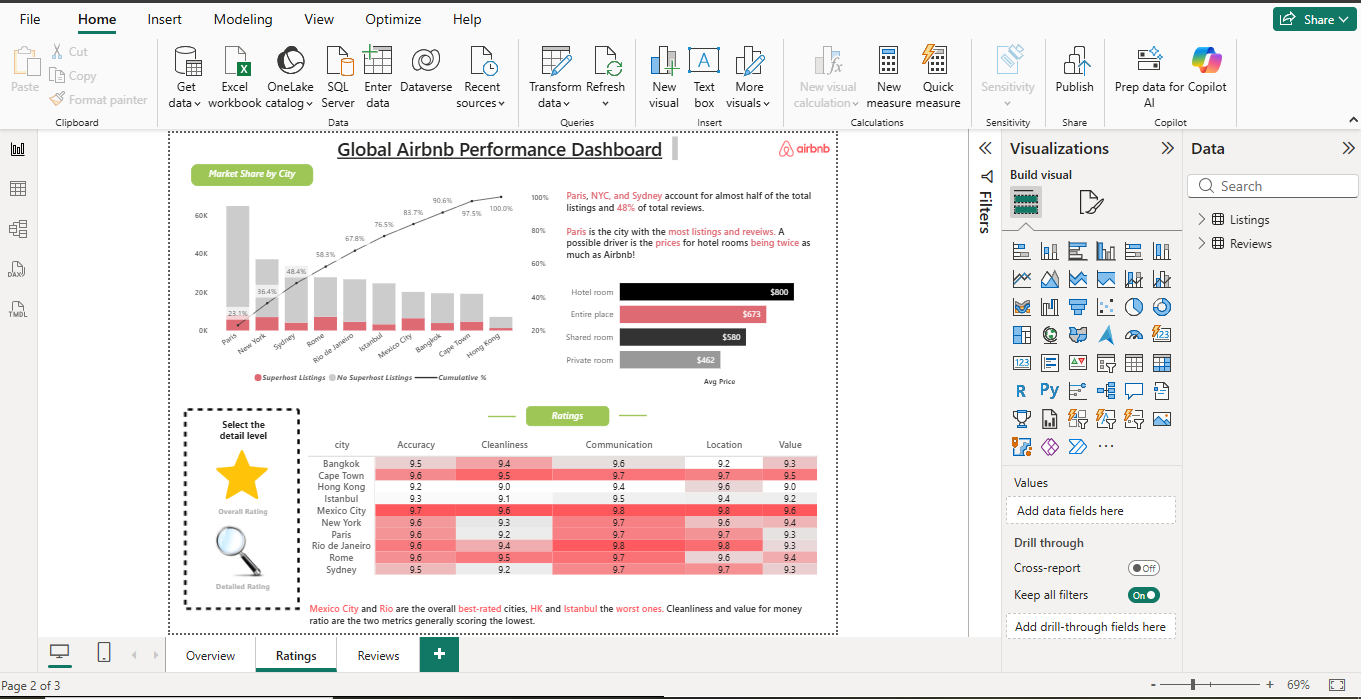

Layout of this report page (visuals, bound fields, positions):
{"tool":"powerbi","page":{"name":"Ratings","canvas":[960,720],"ordinal":1},"visuals":[{"type":"textbox","box":[223.7,0,512.6,44.6],"z":0},{"type":"image","box":[877,0,73.4,44.6],"z":1000},{"type":"textbox","box":[30.2,44.6,175.7,31.7],"z":2000},{"type":"textbox","box":[565.9,76.3,367.2,123.8],"z":3000},{"type":"lineStackedColumnComboChart","fields":{"Category":["Listings.city"],"Y":["Listings.Superhost Listings","Listings.No Superhost Listings"],"Y2":["Listings.Cumulative %"]},"box":[30.2,76.3,521.3,293.8],"z":4000},{"type":"barChart","fields":{"Category":["Listings.room_type"],"Y":["Listings.Avg Price"]},"box":[558.7,190.1,381.6,180],"z":5000},{"type":"image","box":[55.6,446.5,95,90.7],"z":5007,"group":"g1"},{"type":"shape","box":[57,531.5,95,25.9],"z":5012,"group":"g1"},{"type":"textbox","box":[512.6,393.1,119.5,28.8],"z":6000},{"type":"shape","box":[457.9,371.5,40.3,73.4],"z":7000},{"type":"shape","box":[646.6,370.1,40.3,73.4],"z":8000},{"type":"image","box":[0,364.3,210.2,355.7],"z":9000},{"type":"shape","box":[60.5,403.2,90.7,47.5],"z":10000},{"type":"image","box":[56.1,564.5,95,76.3],"z":11000,"group":"g2"},{"type":"pivotTable","fields":{"Rows":["Listings.city"],"Values":["Listings.Accuracy","Listings.Cleanliness","Listings.Communication","Listings.Location","Listings.Value"]},"box":[194.4,434.9,756,234.7],"z":12000},{"type":"group","id":"g1","title":"Group 1","box":[55.6,446.5,96.5,110.9],"z":13000},{"type":"group","id":"g2","title":"Group 2","box":[51.8,564.5,106.6,99.4],"z":14000},{"type":"shape","box":[51.8,640.8,106.6,23],"z":14000,"group":"g2"},{"type":"textbox","box":[195.8,671,735.8,49],"z":15000}]}

Visuals, with their boxes on the page's 960x720 design canvas (x1, y1, x2, y2). These are canvas units, not pixel positions in the 1361x699 screenshot, which may show the page scaled, cropped or inside an application window:
textbox: select_region(224, 0, 736, 45)
image: select_region(877, 0, 950, 45)
textbox: select_region(30, 45, 206, 76)
textbox: select_region(566, 76, 933, 200)
lineStackedColumnComboChart - Listings.city x Listings.Superhost Listings: select_region(30, 76, 552, 370)
barChart - Listings.room_type x Listings.Avg Price: select_region(559, 190, 940, 370)
image: select_region(56, 446, 151, 537)
shape: select_region(57, 532, 152, 557)
textbox: select_region(513, 393, 632, 422)
shape: select_region(458, 372, 498, 445)
shape: select_region(647, 370, 687, 444)
image: select_region(0, 364, 210, 720)
shape: select_region(60, 403, 151, 451)
image: select_region(56, 564, 151, 641)
pivotTable - Listings.city x Listings.Accuracy: select_region(194, 435, 950, 670)
"Group 1" group: select_region(56, 446, 152, 557)
"Group 2" group: select_region(52, 564, 158, 664)
shape: select_region(52, 641, 158, 664)
textbox: select_region(196, 671, 932, 720)
